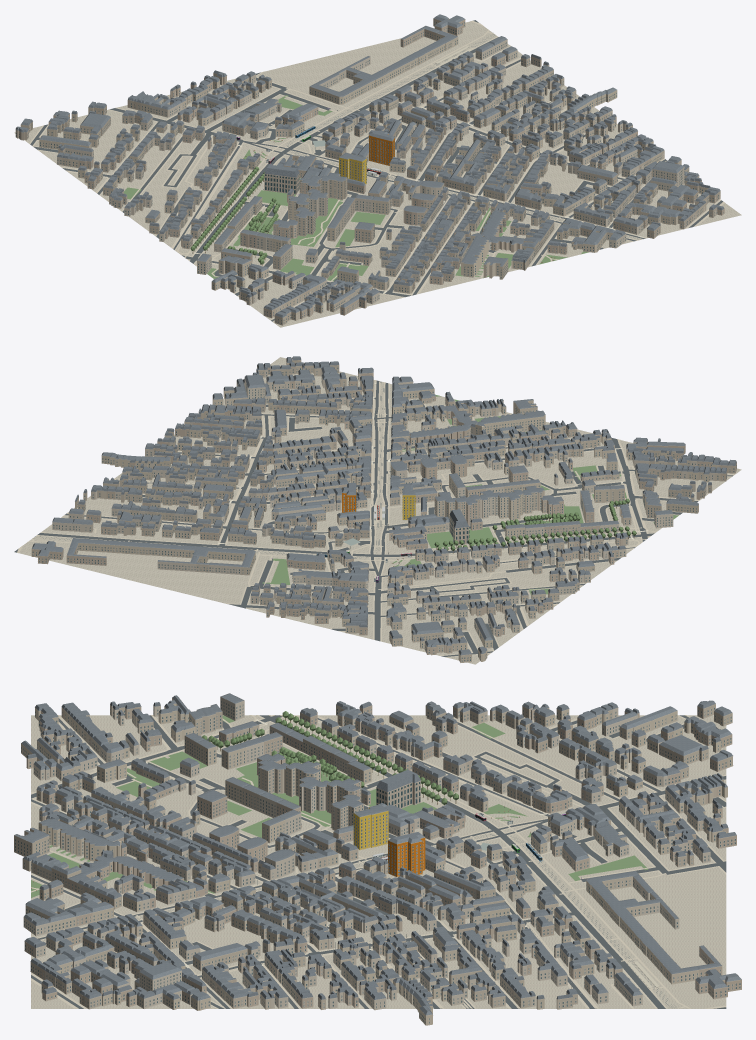
Rendered from belges.glb.
The picture shows the model from 3 angles, top to bottom: view 1: azimuth 30°, elevation 25°; view 2: azimuth 150°, elevation 25°; view 3: azimuth 270°, elevation 25°; orthographic projection. The views are drawn at different scales.
Visible parts, largest first — view 1: Matériau 10, Matériau 0, Matériau 13, Matériau 11, Matériau 12, Matériau 6, Matériau 9, Matériau 8, Matériau 60, Matériau 1, Matériau 7, Matériau 2 (+3 smaller); view 2: Matériau 10, Matériau 0, Matériau 12, Matériau 6, Matériau 13, Matériau 11, Matériau 9, Matériau 60, Matériau 1, Matériau 8, Matériau 7, Matériau 22 (+1 smaller); view 3: Matériau 10, Matériau 0, Matériau 11, Matériau 12, Matériau 6, Matériau 9, Matériau 13, Matériau 8, Matériau 7, Matériau 60, Matériau 1, Matériau 2 (+3 smaller).
Part boxes in pixels (bbox=[...]): Matériau 10: bbox=[16, 14, 724, 317]; Matériau 0: bbox=[14, 21, 741, 327]; Matériau 13: bbox=[15, 56, 720, 325]; Matériau 11: bbox=[57, 39, 709, 312]; Matériau 12: bbox=[48, 18, 724, 321]; Matériau 6: bbox=[39, 33, 708, 320]; Matériau 9: bbox=[16, 18, 723, 325]; Matériau 8: bbox=[16, 21, 723, 323]; Matériau 60: bbox=[29, 20, 724, 322]; Matériau 1: bbox=[30, 20, 722, 321]; Matériau 7: bbox=[16, 21, 723, 323]; Matériau 2: bbox=[124, 95, 588, 281]; Matériau 10: bbox=[32, 356, 736, 655]; Matériau 0: bbox=[17, 357, 741, 664]; Matériau 12: bbox=[31, 359, 727, 655]; Matériau 6: bbox=[76, 366, 720, 649]; Matériau 13: bbox=[75, 360, 736, 662]; Matériau 11: bbox=[52, 370, 714, 635]; Matériau 9: bbox=[32, 360, 735, 662]; Matériau 60: bbox=[17, 380, 735, 657]; Matériau 1: bbox=[14, 380, 732, 656]; Matériau 8: bbox=[32, 367, 736, 661]; Matériau 7: bbox=[33, 368, 735, 661]; Matériau 22: bbox=[434, 498, 636, 550]; Matériau 10: bbox=[14, 693, 741, 1015]; Matériau 0: bbox=[31, 715, 726, 1008]; Matériau 11: bbox=[23, 697, 710, 1010]; Matériau 12: bbox=[21, 705, 741, 1008]; Matériau 6: bbox=[25, 698, 727, 1025]; Matériau 9: bbox=[14, 693, 741, 1025]; Matériau 13: bbox=[14, 704, 732, 1009]; Matériau 8: bbox=[15, 701, 740, 1023]; Matériau 7: bbox=[15, 700, 740, 1023]; Matériau 60: bbox=[31, 715, 726, 1008]; Matériau 1: bbox=[31, 715, 726, 1008]; Matériau 2: bbox=[31, 715, 648, 897].
Bounding box in the file's own units: 618 × 32.58 × 597.
Materials: 148 (61 with a texture image).
